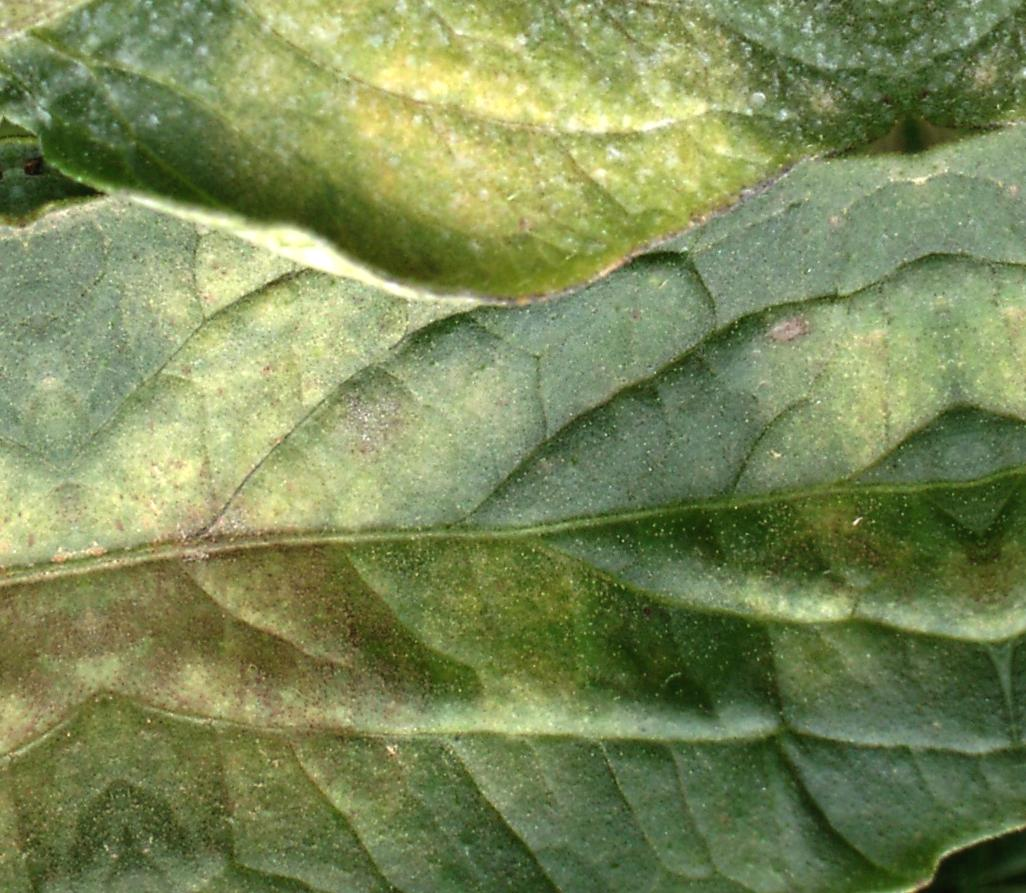Tomato mold leaf: (19, 59, 1026, 893), (0, 0, 928, 378)
